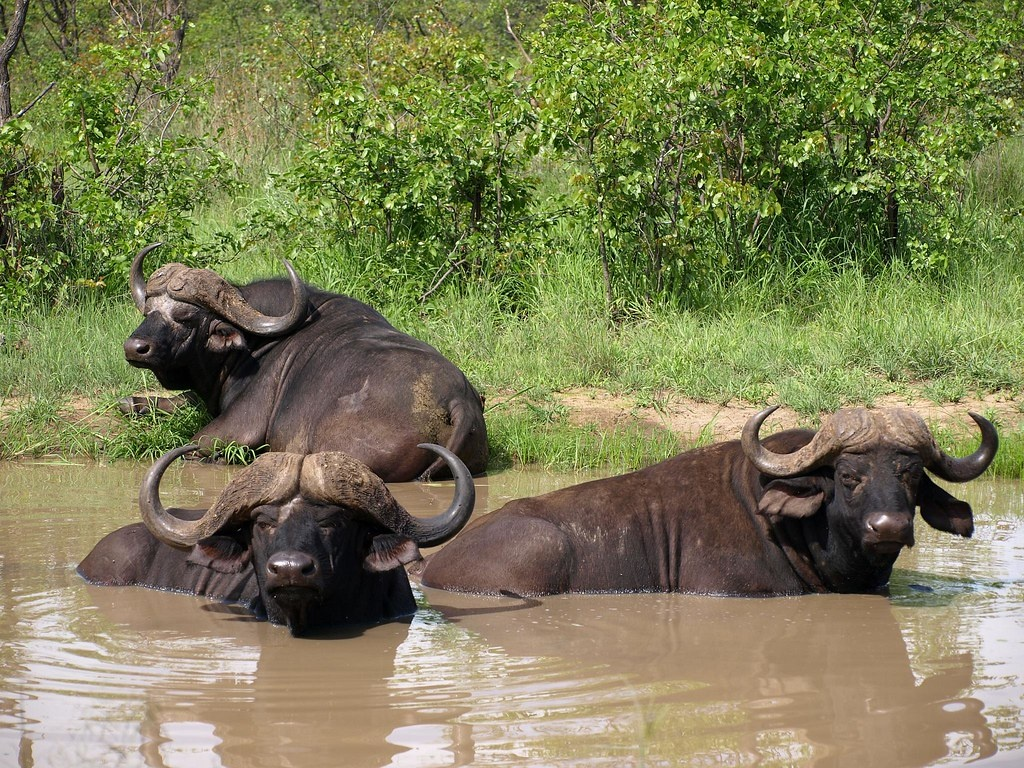buffalo: (417, 400, 999, 597), (121, 239, 490, 482), (69, 442, 478, 636)
